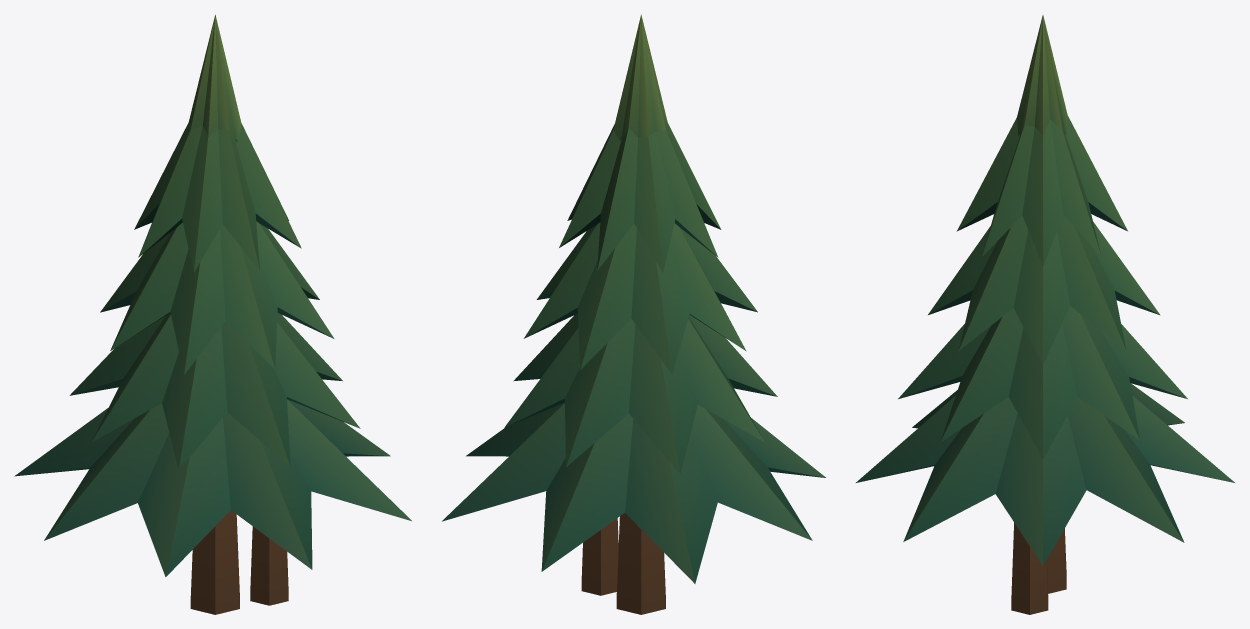
3 renders of one model, left to right at view 1: azimuth 30°, elevation 25°; view 2: azimuth 150°, elevation 25°; view 3: azimuth 270°, elevation 25°, orthographic. The views are drawn at different scales.
Parts seen in each view (by area): view 1: prop_pine_twin; view 2: prop_pine_twin; view 3: prop_pine_twin.
Part boxes in pixels (x1,y1,x2,y2): prop_pine_twin: (14,14,411,614); prop_pine_twin: (442,14,825,614); prop_pine_twin: (856,15,1234,614).
Size of the model in its own units: 4.63 by 7.5 by 4.54.
